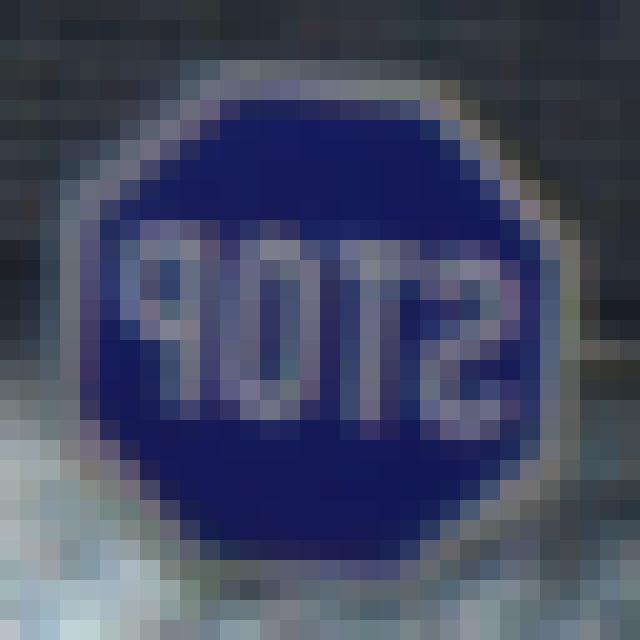STOP: (73, 80, 564, 568)
